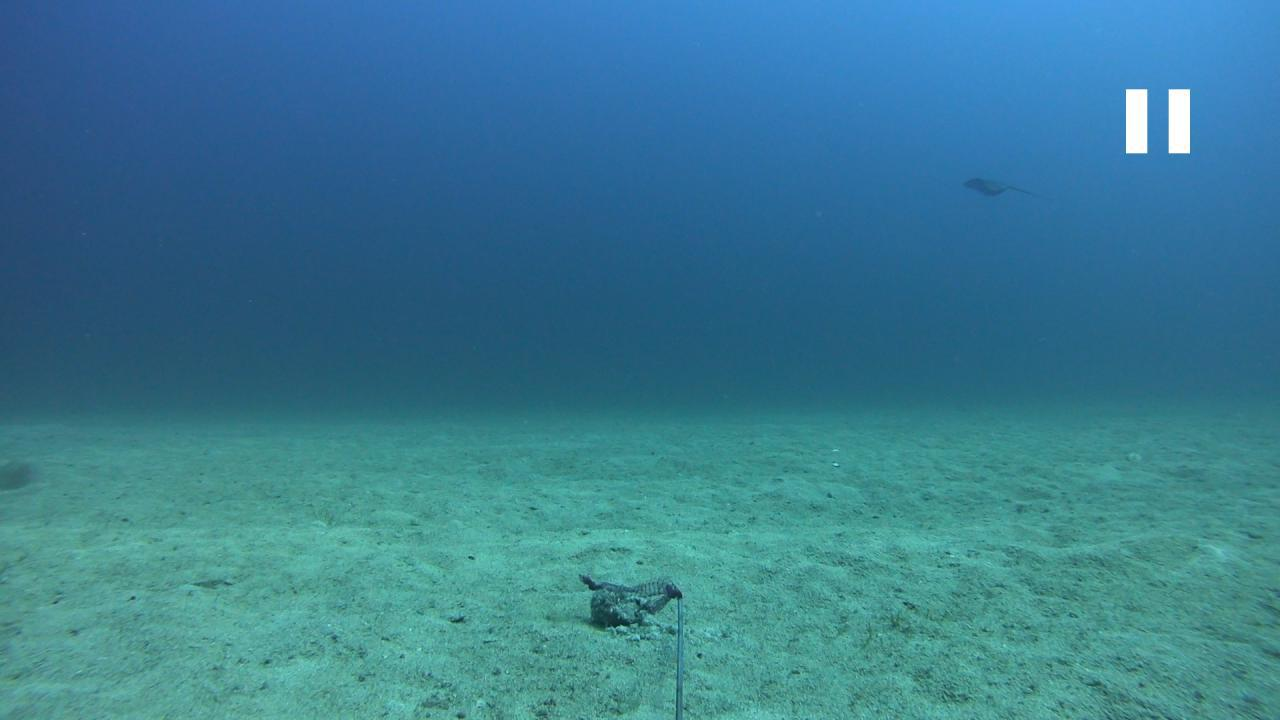dasyatis: (961, 173, 1030, 197)
